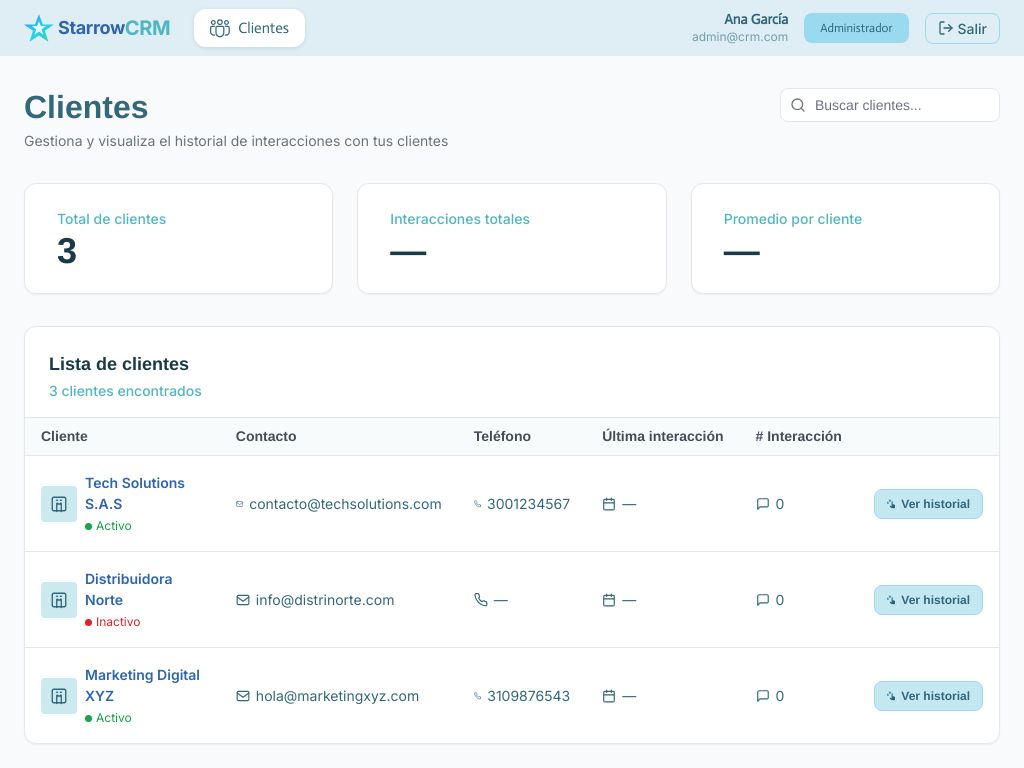
Test case: ClientesPage — HU-06: Buscador de clientes › muestra mensaje de vacío cuando no hay resultados
The image size is (1024, 768).
Step 1. Type "xyzinexistente" into the search field with placeholder "Buscar clientes..." → (890, 105), box [780,88,1000,122]
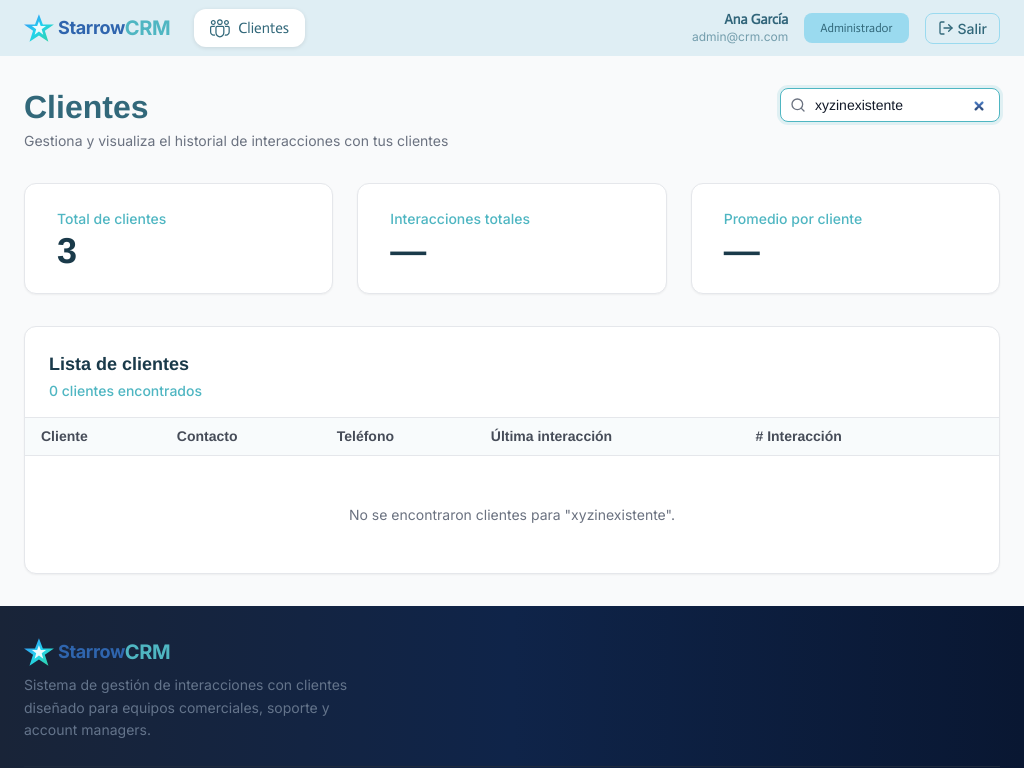
Check: the text "No se encontraron clientes para \"xyzinexistente\"." is shown, box [25,456,999,573]
